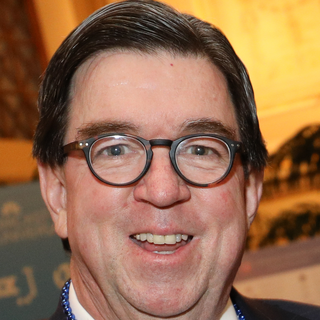eye: (180, 141, 224, 163), (97, 140, 138, 163)
